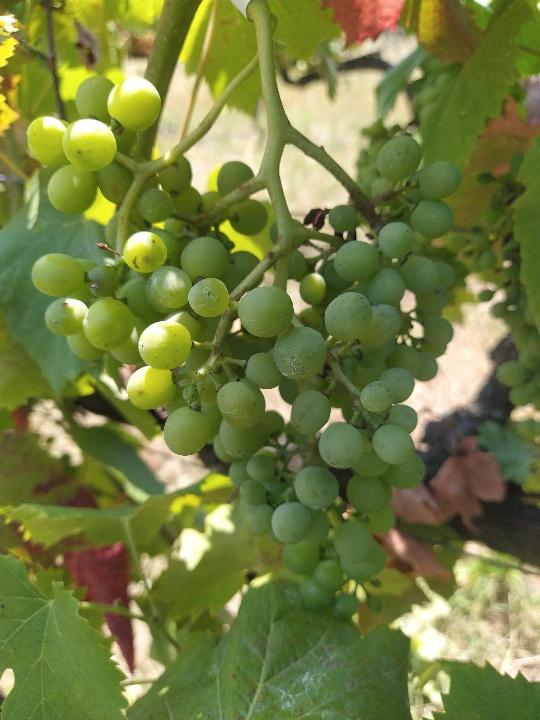grape: (23, 74, 463, 624)
